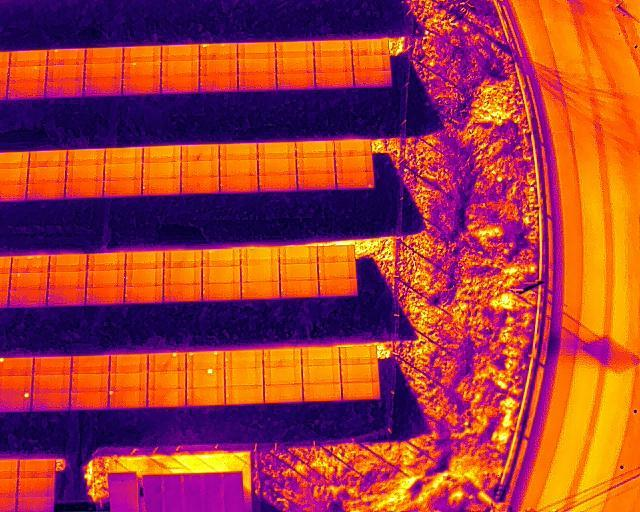Cell: (185, 368, 224, 387), (148, 353, 186, 372), (108, 390, 147, 408), (123, 60, 162, 76), (47, 49, 85, 65), (336, 173, 374, 188)
Cell-Multi: (186, 351, 225, 369), (198, 42, 238, 58)
No-Anomaly: (8, 289, 48, 308), (159, 74, 199, 93), (224, 385, 264, 404), (83, 77, 122, 96), (147, 371, 185, 390), (313, 39, 353, 57), (199, 74, 239, 92), (18, 458, 55, 477), (202, 283, 241, 301), (263, 349, 302, 367), (163, 284, 202, 302), (224, 350, 263, 368), (142, 145, 181, 163), (201, 249, 240, 267), (295, 140, 334, 158), (109, 354, 148, 372), (318, 279, 357, 297), (49, 254, 88, 272), (9, 272, 48, 290), (163, 250, 202, 268), (301, 347, 340, 365), (147, 389, 186, 407), (185, 388, 224, 406), (237, 41, 276, 59), (275, 40, 314, 58), (8, 65, 47, 83), (122, 76, 161, 94), (237, 72, 276, 90), (263, 367, 302, 385), (225, 368, 264, 386), (70, 373, 109, 391), (341, 382, 380, 400), (71, 355, 109, 373), (302, 365, 340, 383), (242, 264, 280, 282), (33, 356, 71, 374), (316, 245, 354, 263), (87, 252, 125, 270), (32, 392, 70, 410), (17, 478, 55, 496), (200, 58, 238, 76), (277, 71, 315, 89), (304, 383, 342, 401), (265, 384, 303, 402), (295, 157, 335, 174), (65, 164, 105, 181), (201, 266, 241, 283), (65, 148, 105, 165), (84, 46, 124, 63), (314, 71, 354, 88), (6, 82, 46, 99), (340, 346, 377, 364), (352, 38, 389, 56), (125, 268, 164, 285), (278, 246, 317, 263), (240, 248, 279, 265), (47, 289, 86, 306), (280, 280, 319, 297), (28, 150, 67, 167), (125, 252, 164, 269), (142, 161, 181, 178), (279, 263, 318, 280), (241, 281, 280, 298), (86, 287, 125, 304), (219, 176, 258, 193), (180, 160, 219, 177), (180, 177, 219, 194), (257, 142, 296, 159), (10, 255, 49, 272), (26, 183, 65, 200), (70, 391, 109, 408), (353, 70, 392, 87), (123, 45, 162, 62), (84, 62, 123, 79), (109, 373, 148, 390), (341, 364, 379, 381), (318, 262, 356, 279), (104, 147, 142, 164), (49, 271, 87, 288), (87, 270, 125, 287), (65, 180, 103, 197), (219, 160, 257, 177), (104, 163, 142, 180), (33, 375, 71, 392), (256, 158, 296, 174), (8, 50, 48, 66), (46, 79, 83, 96), (163, 268, 202, 284), (124, 286, 163, 302), (258, 175, 297, 191), (180, 144, 219, 160), (103, 180, 142, 196), (297, 174, 336, 190), (142, 178, 181, 194), (314, 56, 353, 72), (237, 58, 276, 74), (161, 59, 200, 75), (27, 166, 65, 182), (219, 143, 257, 159), (162, 44, 200, 60), (335, 156, 372, 172), (334, 140, 371, 156), (277, 56, 314, 72), (17, 497, 55, 512), (352, 56, 390, 71), (46, 65, 84, 80)
